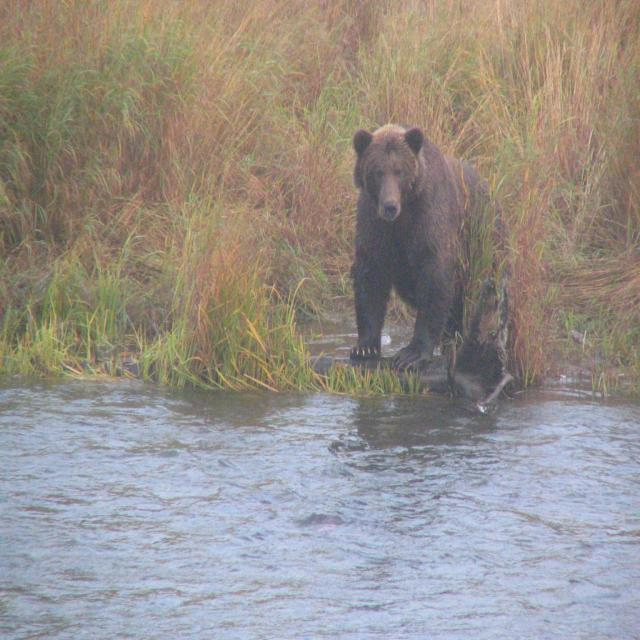bear face: (352, 124, 488, 371)
